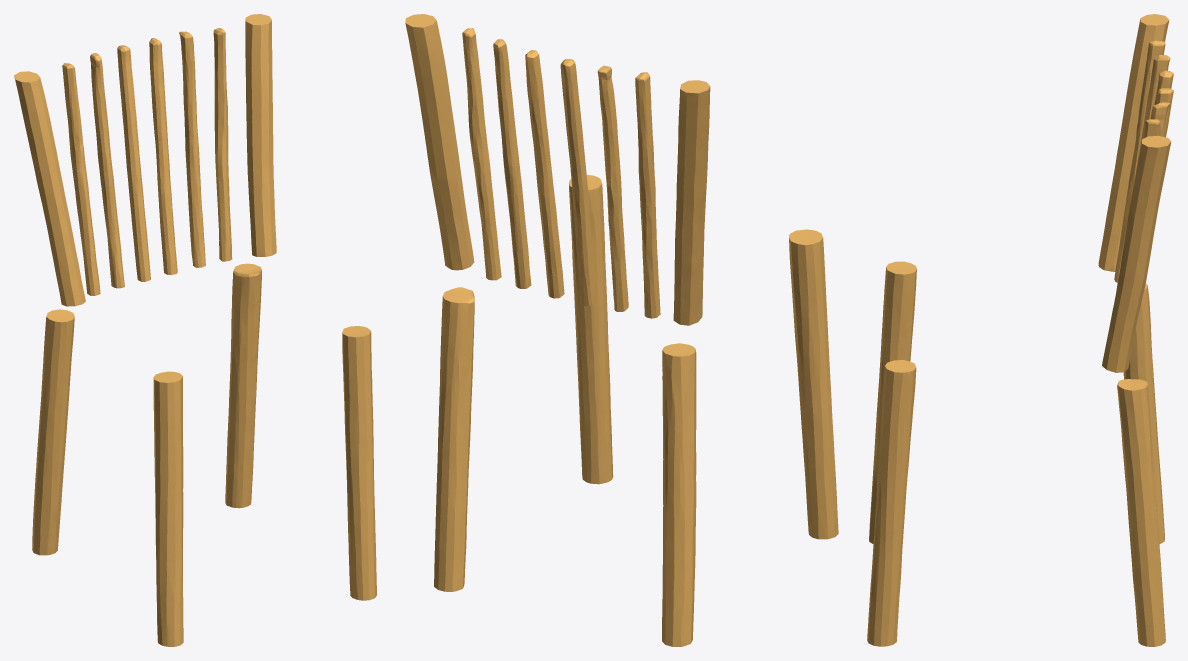
Rendered from method-b.glb.
3 views of the same model, side by side, from view 1: azimuth 30°, elevation 25°; view 2: azimuth 150°, elevation 25°; view 3: azimuth 270°, elevation 25° (orthographic). The views are drawn at different scales.
Visible parts, largest first — view 1: Volume B · part 780, Volume B · part 772, Volume B · part 771, Volume B · part 779, Volume B · part 781, Volume B · part 770, Volume B · part 775, Volume B · part 776, Volume B · part 777, Volume B · part 773, Volume B · part 774, Volume B · part 778; view 2: Volume B · part 772, Volume B · part 771, Volume B · part 779, Volume B · part 780, Volume B · part 781, Volume B · part 770, Volume B · part 776, Volume B · part 775, Volume B · part 778, Volume B · part 777, Volume B · part 773, Volume B · part 774; view 3: Volume B · part 780, Volume B · part 779, Volume B · part 781, Volume B · part 770, Volume B · part 772, Volume B · part 771, Volume B · part 773, Volume B · part 774.
Part boxes in pixels (box(x1,y1,x2,y2)): Volume B · part 780: box(342, 326, 376, 600); Volume B · part 772: box(153, 371, 183, 646); Volume B · part 771: box(32, 309, 74, 555); Volume B · part 779: box(225, 263, 261, 508); Volume B · part 781: box(245, 14, 276, 256); Volume B · part 770: box(14, 71, 85, 306); Volume B · part 775: box(117, 45, 150, 281); Volume B · part 776: box(149, 38, 177, 274); Volume B · part 777: box(179, 31, 205, 267); Volume B · part 773: box(62, 63, 100, 295); Volume B · part 774: box(90, 53, 124, 288); Volume B · part 778: box(213, 28, 232, 261); Volume B · part 772: box(789, 229, 838, 539); Volume B · part 771: box(662, 343, 696, 646); Volume B · part 779: box(434, 287, 474, 591); Volume B · part 780: box(569, 175, 613, 484); Volume B · part 781: box(405, 14, 474, 270); Volume B · part 770: box(673, 80, 710, 325); Volume B · part 776: box(525, 50, 564, 298); Volume B · part 775: box(560, 59, 595, 306); Volume B · part 778: box(462, 28, 501, 280); Volume B · part 777: box(493, 39, 531, 288); Volume B · part 773: box(635, 72, 660, 318); Volume B · part 774: box(597, 65, 628, 311); Volume B · part 780: box(867, 360, 916, 646); Volume B · part 779: box(1117, 379, 1165, 646); Volume B · part 781: box(1102, 135, 1171, 372); Volume B · part 770: box(1098, 14, 1169, 271); Volume B · part 772: box(869, 261, 916, 543); Volume B · part 771: box(1123, 283, 1164, 544); Volume B · part 773: box(1114, 40, 1165, 282); Volume B · part 774: box(1116, 55, 1170, 290).
Bounding box in the file's own units: 0.4915 × 0.8794 × 0.4765.
